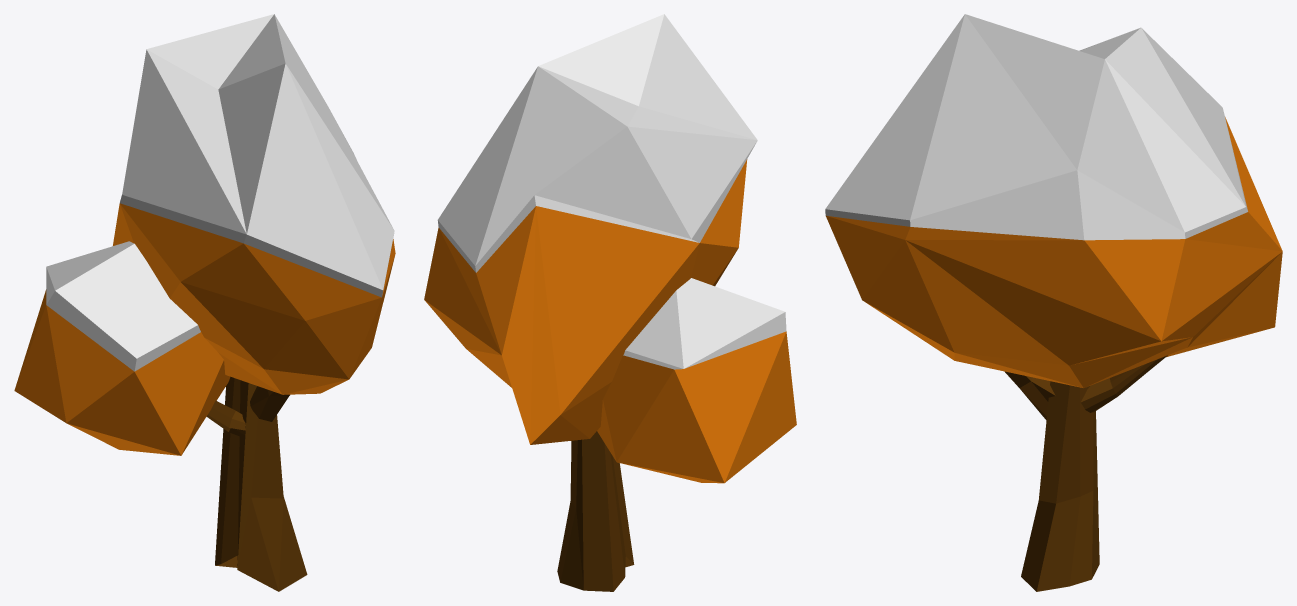
The model's file is Bush#6_Snow.fbx.
The picture shows the model from 3 angles, left to right: view 1: azimuth 30°, elevation 25°; view 2: azimuth 150°, elevation 25°; view 3: azimuth 270°, elevation 25°; orthographic projection. The views are drawn at different scales.
Parts seen in each view (by area): view 1: Bush#6_Snow; view 2: Bush#6_Snow; view 3: Bush#6_Snow.
Part boxes in pixels (x1,y1,x2,y2): Bush#6_Snow: [14, 14, 395, 591]; Bush#6_Snow: [424, 14, 796, 591]; Bush#6_Snow: [825, 14, 1282, 591].
Bounding box in the file's own units: 122 × 196 × 147.
